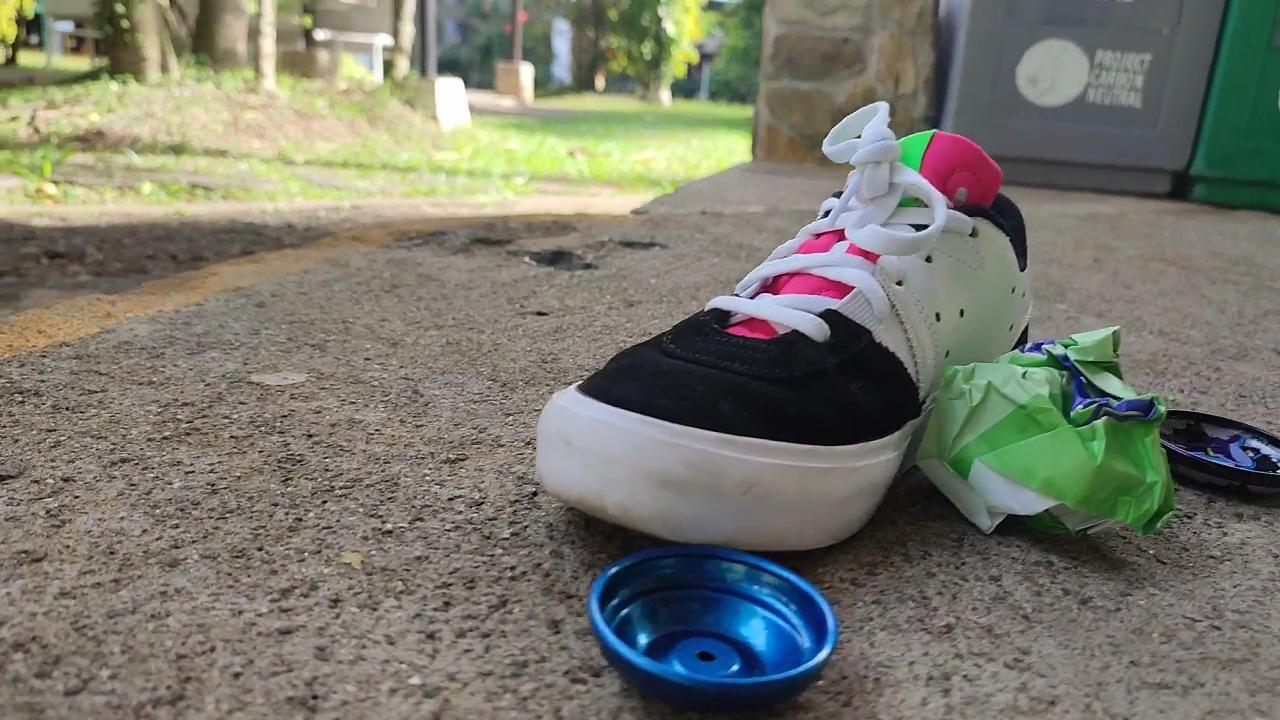Paper: (912, 312, 1181, 552)
